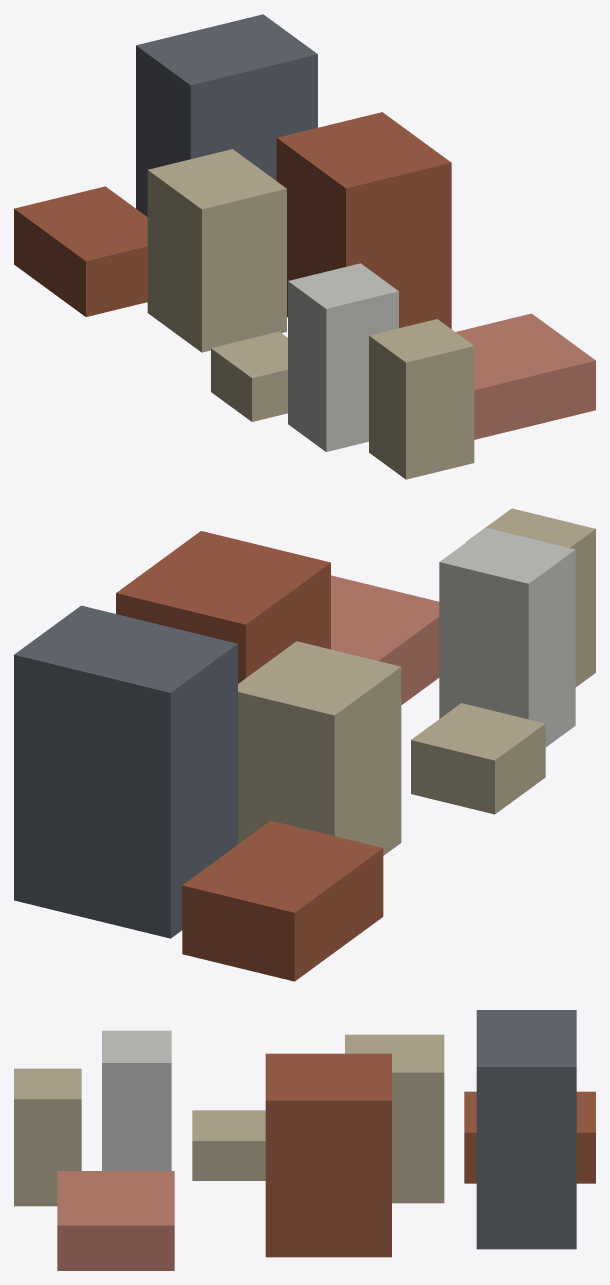
File: synth-19-06.lod2.glb
3 views of the same model, one above another, from view 1: azimuth 30°, elevation 25°; view 2: azimuth 150°, elevation 25°; view 3: azimuth 270°, elevation 25° (orthographic). The views are drawn at different scales.
Parts seen in each view (by area): view 1: synth-19-06; view 2: synth-19-06; view 3: synth-19-06.
Part boxes in pixels (left/top/right/bottom): synth-19-06: left=14, top=14, right=595, bottom=479; synth-19-06: left=14, top=508, right=595, bottom=981; synth-19-06: left=14, top=1010, right=595, bottom=1270.
Bounding box in the file's own units: 42.75 × 28.41 × 82.12.
